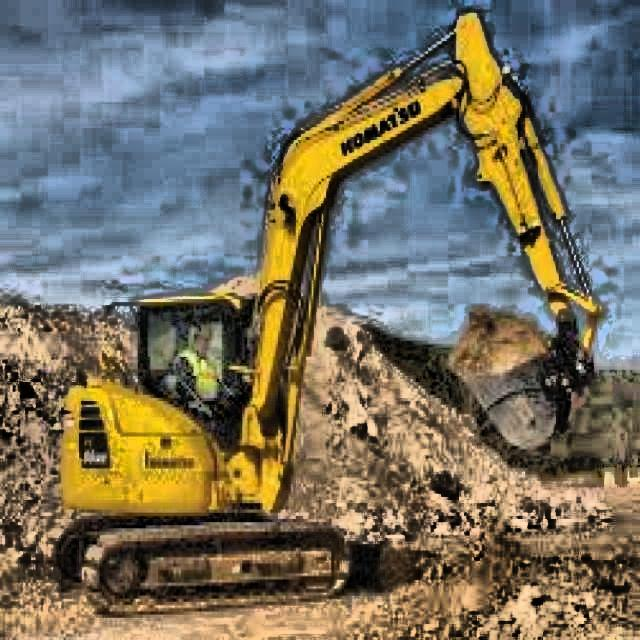bull_dozer/loader/grader: (50, 4, 608, 620)
person: (170, 322, 232, 412)
